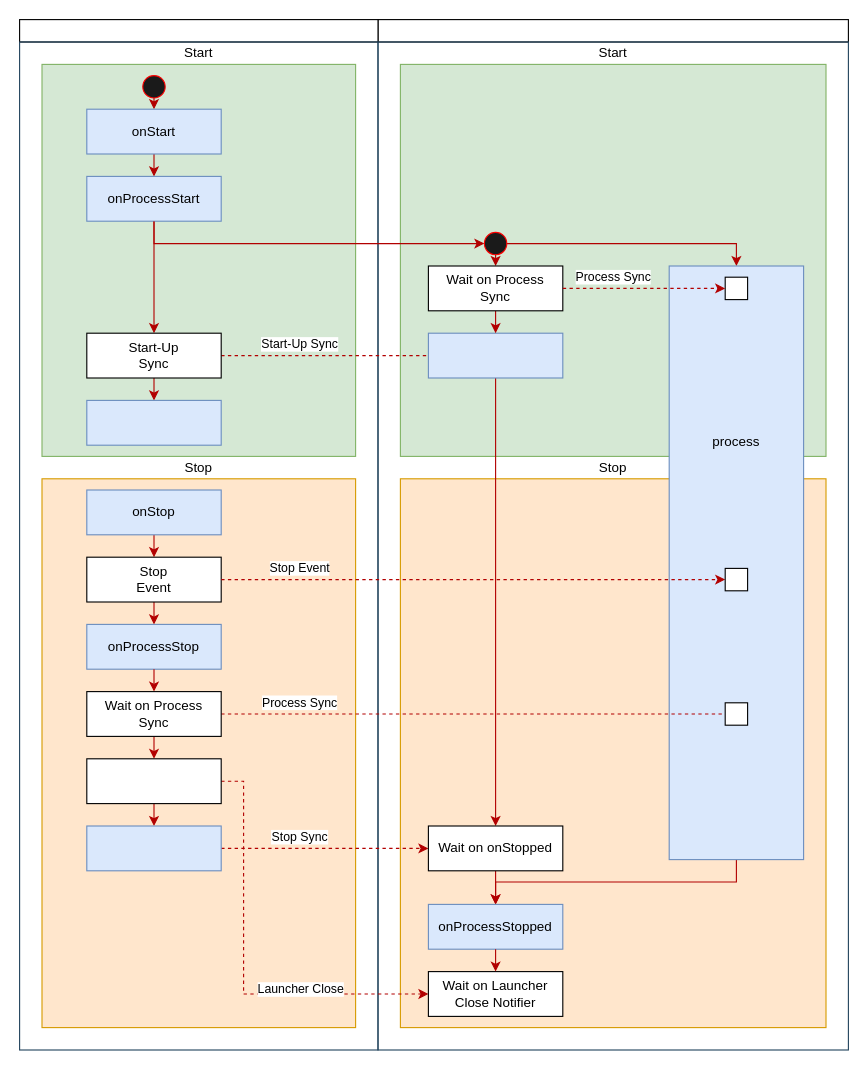
Image size: 868x1070. Some labels were removed from this diagram. The shapes that lost their labels are listed below. From the top down, each one's centre as x and y in pixels, then its label:
the point at 198,30: Calling Thread
the point at 612,30: Process Thread
the point at 495,355: onStarted
the point at 153,422: onProcessStarted
the point at 153,781: Close Process Reference
the point at 153,848: onStopped
